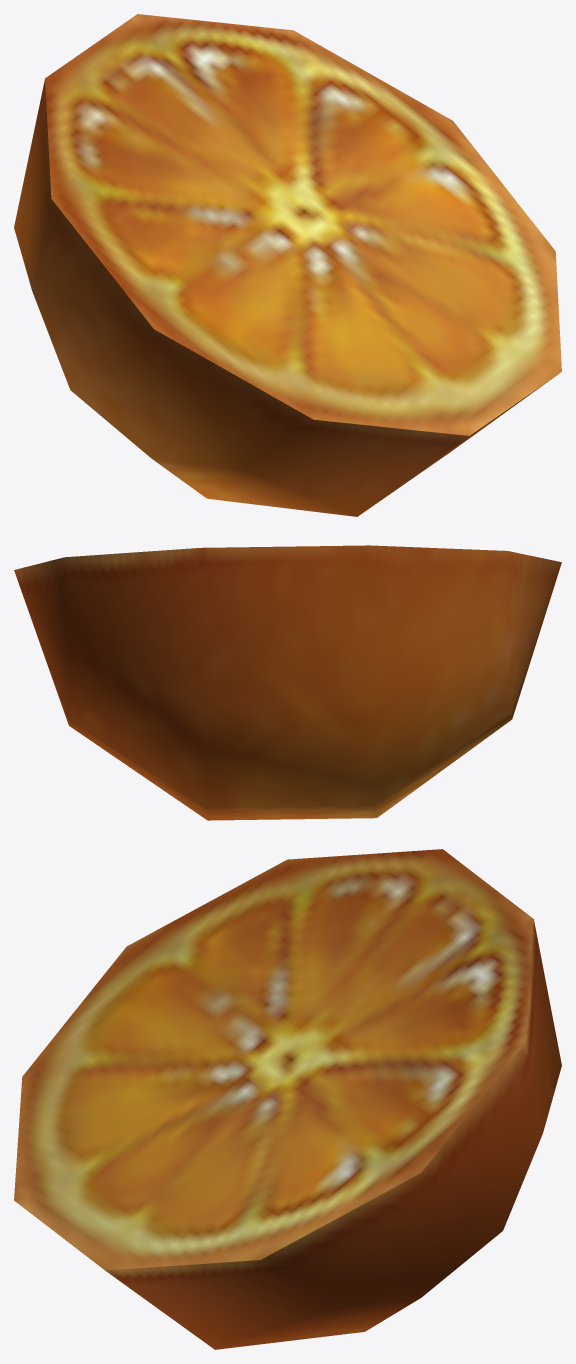
File: orange_slice.fbx
3 renders of one model, top to bottom at view 1: azimuth 30°, elevation 25°; view 2: azimuth 150°, elevation 25°; view 3: azimuth 270°, elevation 25°, orthographic. The views are drawn at different scales.
Visible parts, largest first — view 1: orange_slice; view 2: orange_slice; view 3: orange_slice.
Boxes of the visible parts, <box> form: orange_slice: <box>14,14,561,516</box>; orange_slice: <box>14,545,561,820</box>; orange_slice: <box>14,849,561,1349</box>.
Size of the model in its own units: 21.4 by 15.49 by 20.35.
